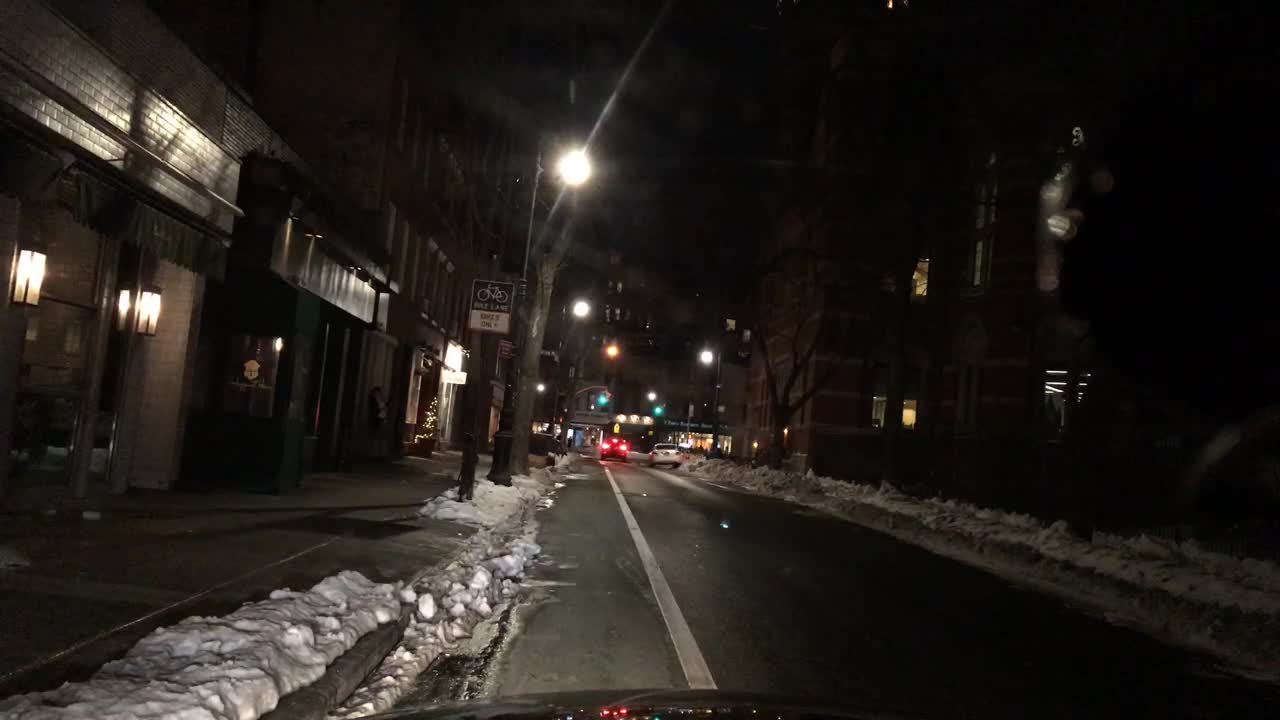car: (646, 442, 683, 467), (601, 435, 626, 461)
person: (366, 386, 391, 469), (567, 436, 573, 451)
traffic light: (598, 391, 608, 405), (653, 399, 661, 415), (557, 415, 562, 426)
traffic sign: (464, 278, 511, 333), (497, 341, 515, 359), (611, 420, 620, 432)
